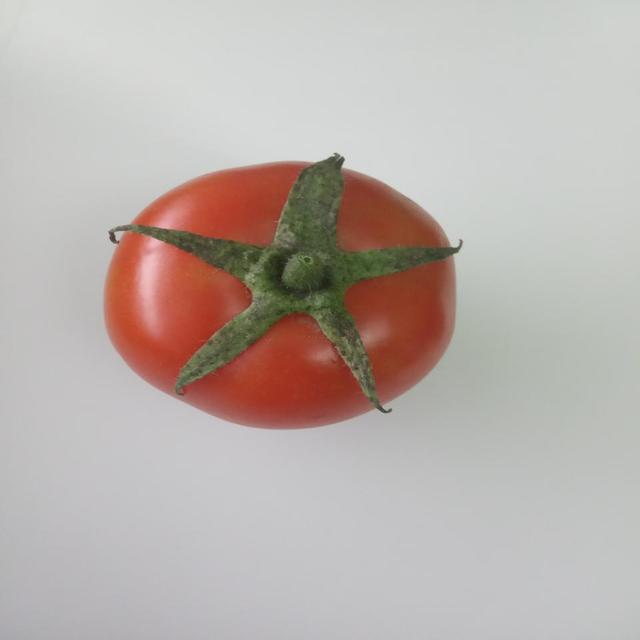Healthy Fruit: (69, 98, 311, 288)
